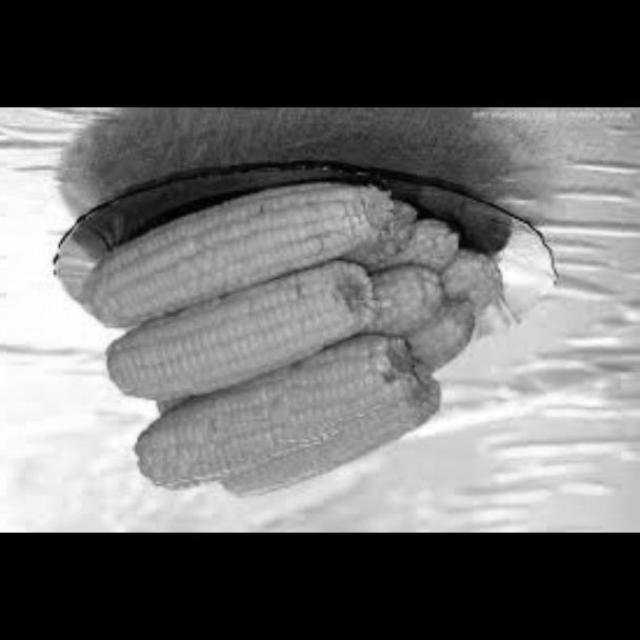cereal: (74, 173, 395, 328), (124, 348, 421, 510), (102, 264, 380, 399), (207, 368, 446, 514), (349, 272, 445, 352), (428, 223, 500, 322), (360, 203, 458, 275)
